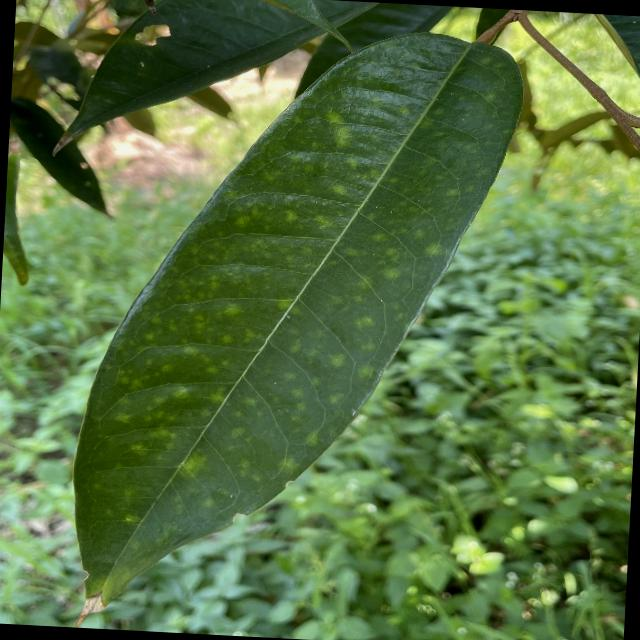Leaf Spot: (61, 8, 530, 639)
